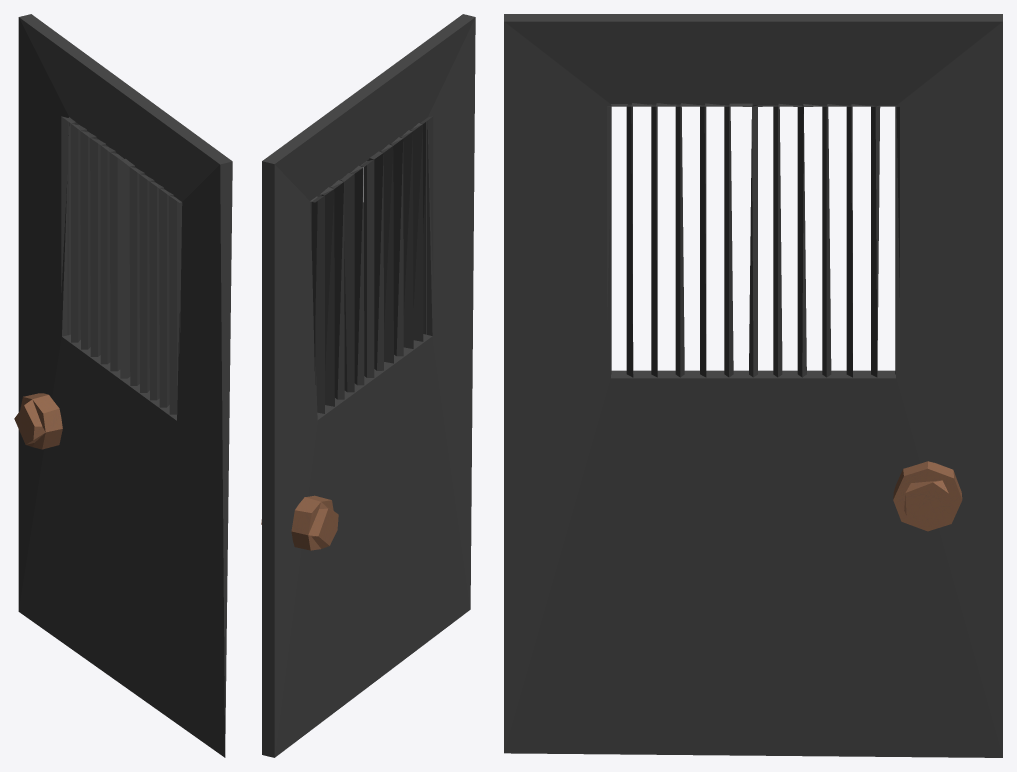
The model's file is door-office.glb.
3 renders of one model, left to right at view 1: azimuth 30°, elevation 25°; view 2: azimuth 150°, elevation 25°; view 3: azimuth 270°, elevation 25°, orthographic. The views are drawn at different scales.
Visible parts, largest first — view 1: Cube.042, Cube.043, Cylinder.065; view 2: Cube.042, Cube.043, Cylinder.065; view 3: Cube.042, Cube.043, Cylinder.065.
Part boxes in pixels (bbox=[...]): Cube.042: bbox=[18, 14, 232, 757]; Cube.043: bbox=[61, 116, 182, 414]; Cylinder.065: bbox=[14, 393, 62, 449]; Cube.042: bbox=[262, 14, 475, 757]; Cube.043: bbox=[310, 116, 433, 413]; Cylinder.065: bbox=[261, 495, 338, 550]; Cube.042: bbox=[504, 14, 1002, 757]; Cube.043: bbox=[607, 103, 899, 377]; Cylinder.065: bbox=[893, 461, 962, 531].
Bounding box in the file's own units: 0.2876 × 2.82 × 1.73.
2 materials, 1 textured.
